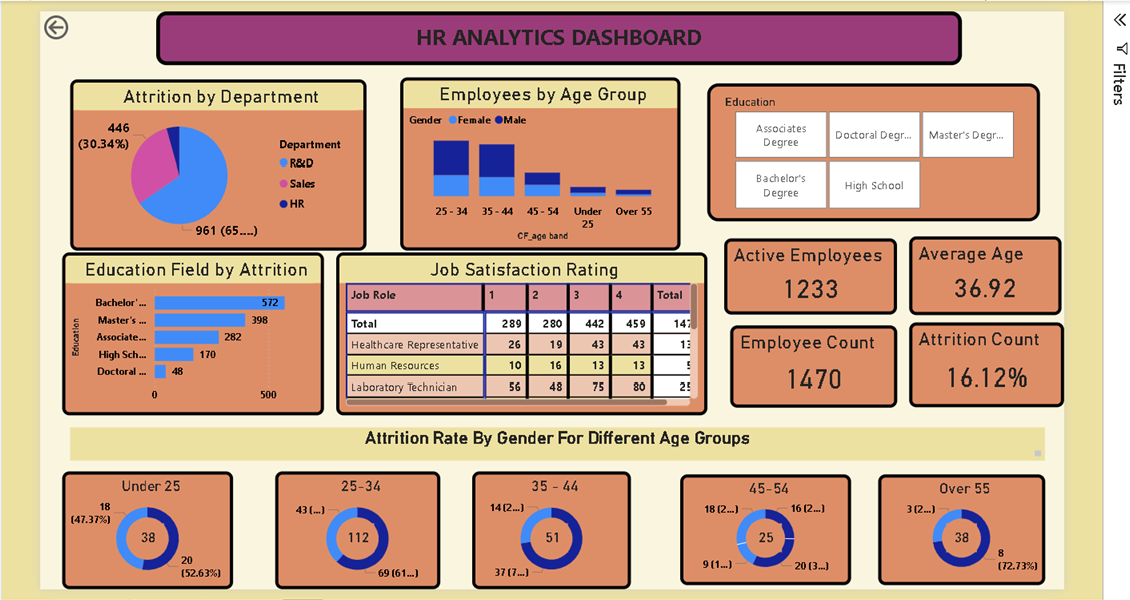

Layout of this report page (visuals, bound fields, positions):
{"tool":"powerbi","page":{"name":"Page 2","canvas":[1280,720],"ordinal":1},"visuals":[{"type":"actionButton","box":[0,0,100,40],"z":0},{"type":"card","title":"Employee Count","fields":{"Values":["CountNonNull(Sheet1.Employee Count)"]},"box":[862.5,391.2,208.8,101.2],"z":1000},{"type":"card","title":"Attrition Count","fields":{"Values":["Sheet1.Attrition Rate"]},"box":[1086.2,387.5,193.8,105],"z":3000},{"type":"card","title":"Active Employees","fields":{"Values":["Sheet1.Active Employess"]},"box":[855,282.5,216.2,95],"z":4000},{"type":"card","title":"Average Age","fields":{"Values":["Avg(Sheet1.Age)"]},"box":[1086.2,280,190,98.8],"z":5000},{"type":"pieChart","title":" Attrition by Department","fields":{"Category":["Sheet1.Department"],"Y":["CountNonNull(Sheet1.Attrition)"]},"box":[37.5,85,370,212.5],"z":6000},{"type":"columnChart","title":"Employees by Age Group","fields":{"Category":["Sheet1.CF_age band"],"Y":["Sum(Sheet1.Employee Number)"],"Series":["Sheet1.Gender"]},"box":[450,82.5,350,215],"z":7000},{"type":"clusteredBarChart","title":"Education Field by Attrition","fields":{"Category":["Sheet1.Education"],"Y":["CountNonNull(Sheet1.Education Field)"]},"box":[27.5,300,327.5,202.5],"z":8000},{"type":"pivotTable","title":"Job Satisfaction Rating","fields":{"Rows":["Sheet1.Job Role"],"Columns":["Sheet1.Job Satisfaction"],"Values":["Sum(Sheet1.Employee Count)"]},"box":[370,300,463.8,202.5],"z":9000},{"type":"donutChart","title":"35 - 44","fields":{"Category":["Sheet1.Gender"],"Y":["Sum(Sheet1.Attrition Count)"],"Series":["Sheet1.CF_age band"]},"box":[540,572.5,198.8,147.5],"z":10000},{"type":"textbox","title":"Attrition Rate By Gender For Different Age Groups","box":[37.5,517.5,1218.8,41.2],"z":11000},{"type":"donutChart","title":"Under 25","fields":{"Category":["Sheet1.Gender"],"Y":["Sum(Sheet1.Attrition Count)"],"Series":["Sheet1.CF_age band"]},"box":[27.5,572.5,213.8,147.5],"z":11001},{"type":"donutChart","title":"Over 55","fields":{"Category":["Sheet1.Gender"],"Y":["Sum(Sheet1.Attrition Count)"],"Series":["Sheet1.CF_age band"]},"box":[1047.5,576.2,208.8,138.8],"z":11002},{"type":"donutChart","title":" 25-34","fields":{"Category":["Sheet1.Gender"],"Y":["Sum(Sheet1.Attrition Count)"],"Series":["Sheet1.CF_age band"]},"box":[293.8,572.5,206.2,147.5],"z":11003},{"type":"donutChart","title":"45-54","fields":{"Category":["Sheet1.Gender"],"Y":["Sum(Sheet1.Attrition Count)"],"Series":["Sheet1.CF_age band"]},"box":[800,576.2,213.8,138.8],"z":11004},{"type":"card","fields":{"Values":["Sum(Sheet1.Attrition Count)"]},"box":[377.5,637.5,40,36.2],"z":11005},{"type":"card","fields":{"Values":["Sum(Sheet1.Attrition Count)"]},"box":[115,637.5,40,36.2],"z":11006},{"type":"card","fields":{"Values":["Sum(Sheet1.Attrition Count)"]},"box":[621.2,637.5,38.8,36.2],"z":11007},{"type":"card","fields":{"Values":["Sum(Sheet1.Attrition Count)"]},"box":[888.8,637.5,38.8,36.2],"z":11008},{"type":"card","fields":{"Values":["Sum(Sheet1.Attrition Count)"]},"box":[1086.2,627.5,38.8,36.2],"z":11009},{"type":"textbox","box":[145,0,1007.5,67.5],"z":11010},{"type":"slicer","fields":{"Values":["Sheet1.Education"]},"box":[833.8,90,416.2,171.2],"z":11011}]}

Visuals, with their boxes in screenshot pixels (x1, y1, x2, y2):
actionButton: <bbox>41, 12, 121, 43</bbox>
"Employee Count" card: <bbox>725, 322, 891, 402</bbox>
"Attrition Count" card: <bbox>903, 319, 1056, 402</bbox>
"Active Employees" card: <bbox>719, 236, 891, 311</bbox>
"Average Age" card: <bbox>903, 234, 1053, 312</bbox>
" Attrition by Department" pieChart: <bbox>71, 79, 364, 248</bbox>
"Employees by Age Group" columnChart: <bbox>398, 77, 676, 248</bbox>
"Education Field by Attrition" clusteredBarChart: <bbox>63, 250, 323, 410</bbox>
"Job Satisfaction Rating" pivotTable: <bbox>335, 250, 702, 410</bbox>
"35 - 44" donutChart: <bbox>469, 466, 627, 583</bbox>
"Attrition Rate By Gender For Different Age Groups" textbox: <bbox>71, 422, 1038, 455</bbox>
"Under 25" donutChart: <bbox>63, 466, 233, 583</bbox>
"Over 55" donutChart: <bbox>872, 469, 1038, 579</bbox>
" 25-34" donutChart: <bbox>274, 466, 438, 583</bbox>
"45-54" donutChart: <bbox>676, 469, 845, 579</bbox>
card - Sum(Sheet1.Attrition Count): <bbox>341, 517, 372, 546</bbox>
card - Sum(Sheet1.Attrition Count): <bbox>132, 517, 164, 546</bbox>
card - Sum(Sheet1.Attrition Count): <bbox>534, 517, 565, 546</bbox>
card - Sum(Sheet1.Attrition Count): <bbox>746, 517, 777, 546</bbox>
card - Sum(Sheet1.Attrition Count): <bbox>903, 509, 933, 538</bbox>
textbox: <bbox>156, 12, 955, 65</bbox>
slicer - Sheet1.Education: <bbox>702, 83, 1033, 219</bbox>
